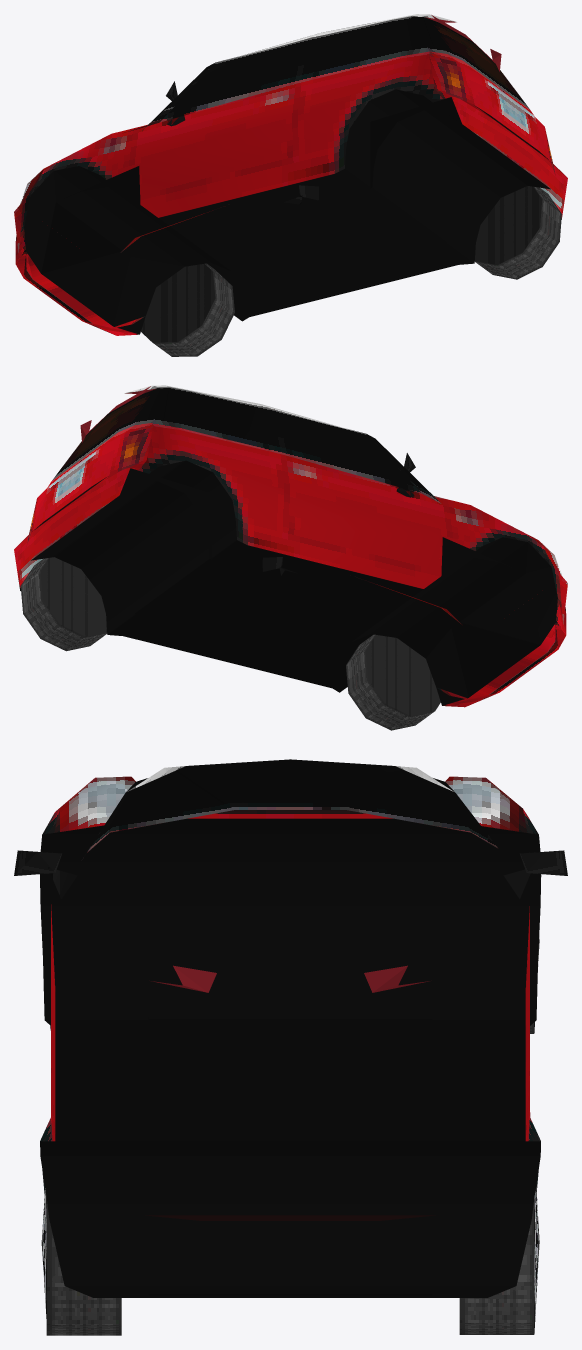
Rendered from ps2_save-icons_theitalianjob.glb.
3 views of the same model, one above another, from view 1: azimuth 30°, elevation 25°; view 2: azimuth 150°, elevation 25°; view 3: azimuth 270°, elevation 25° (orthographic). The views are drawn at different scales.
Visible parts, largest first — view 1: MINI.ICO; view 2: MINI.ICO; view 3: MINI.ICO.
Boxes of the visible parts, <box> form: MINI.ICO: <box>14,14,567,356</box>; MINI.ICO: <box>14,385,567,730</box>; MINI.ICO: <box>14,759,567,1335</box>.
Bounding box in the file's own units: 5 × 2.05 × 2.7.
Materials: 1 (1 with a texture image).
